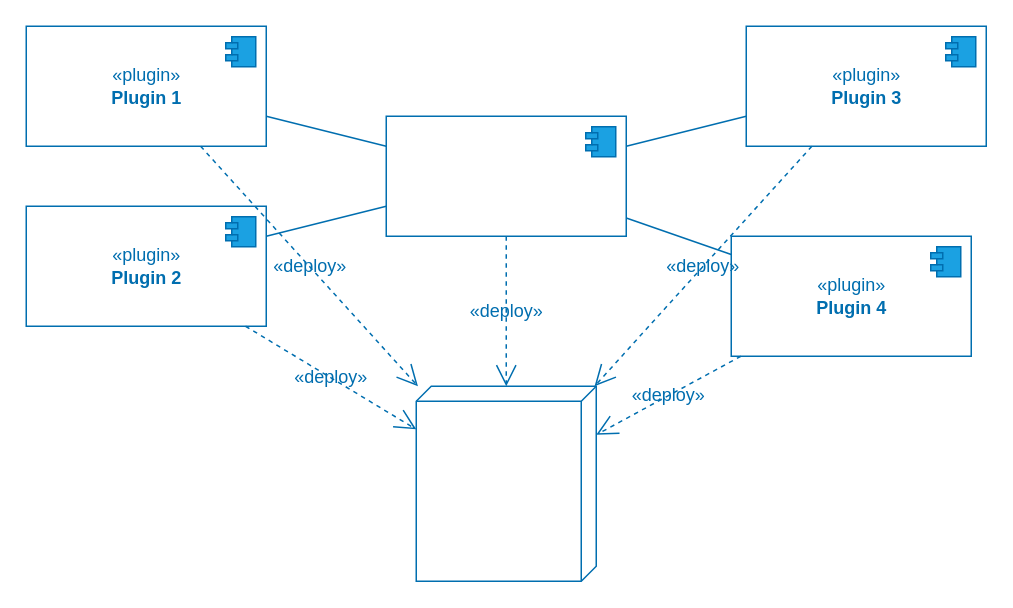
This 1013x608 diagram has some shape labels left out. Each missing label, with the centre of its shape:
"Deployment Target" goes at [505,483].
"«core» Core System" goes at [505,175].
